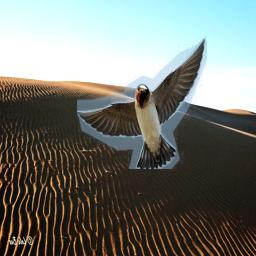Swallow: (77, 36, 207, 169)
